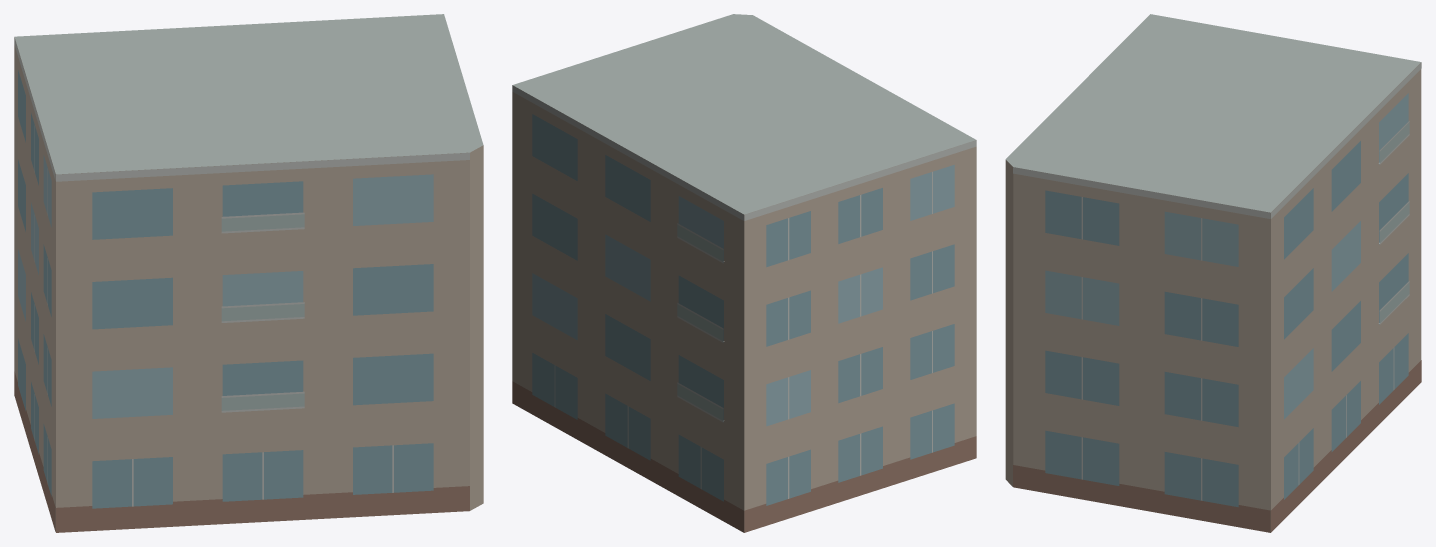
The model's file is survey-upis-32527271.glb.
The picture shows the model from 3 angles, left to right: view 1: azimuth 30°, elevation 25°; view 2: azimuth 150°, elevation 25°; view 3: azimuth 270°, elevation 25°; orthographic projection. The views are drawn at different scales.
Visible parts, largest first — view 1: survey-upis-32527271.tmp; view 2: survey-upis-32527271.tmp; view 3: survey-upis-32527271.tmp.
Part boxes in pixels (x1,y1,x2,y2): survey-upis-32527271.tmp: (14,14,483,532); survey-upis-32527271.tmp: (512,14,976,532); survey-upis-32527271.tmp: (1005,14,1421,532).
Size of the model in its own units: 15.83 by 11.89 by 14.01.
